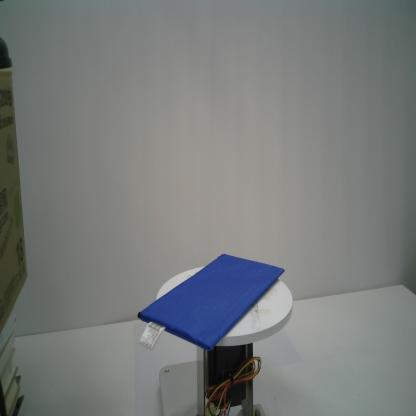Stationery: (137, 253, 285, 352)
